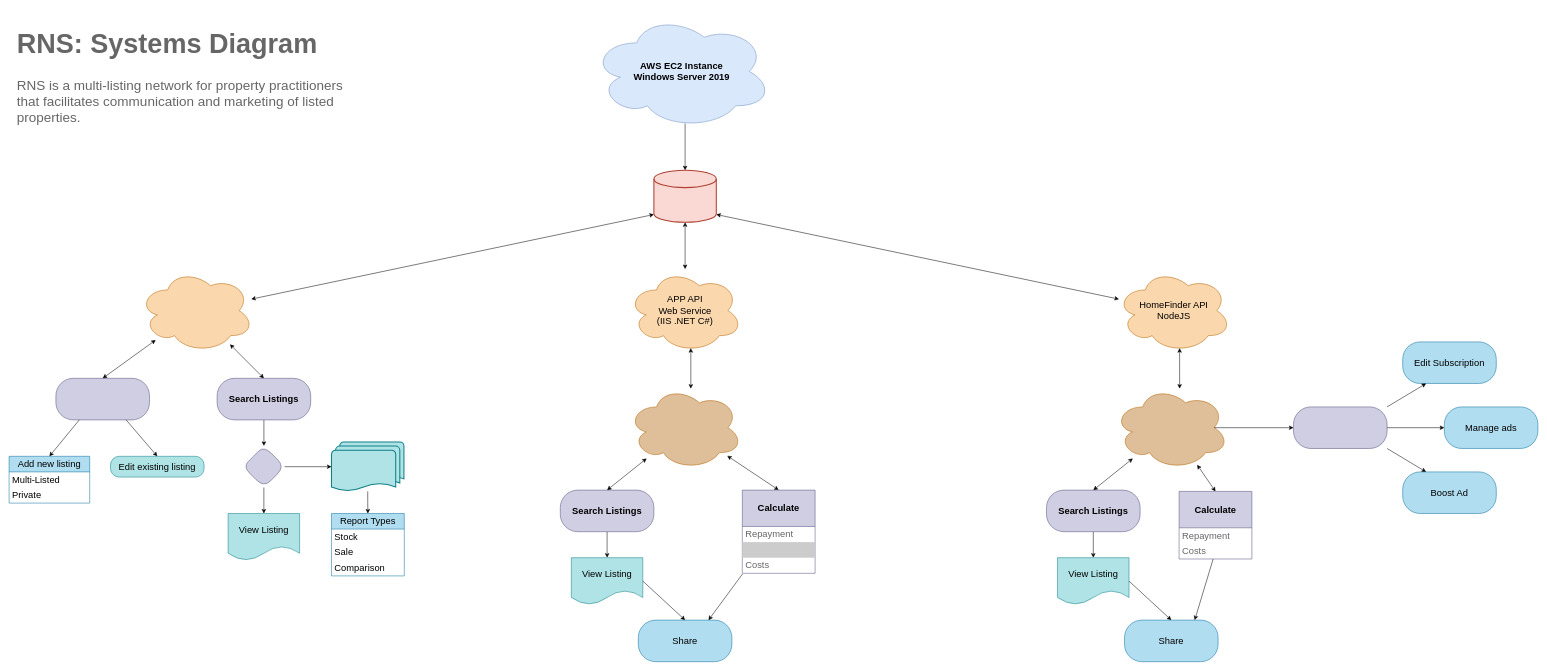
Some shapes in this 1547 by 671 pixel diagram are drawn without their labels. Here are the shapes that lost their labels. From the top down, the centre of each, then its label:
[685,196]: Oracle 11g
[196,310]: RNS Live Web Forms (IIS .NET C#)
[102,399]: Listing Capture
[684,427]: APP UI (JavaScript)
[1171,427]: Web / App UI (React)
[1340,427]: Portal Dashboard
[367,466]: Print Report
[778,549]: Commission
